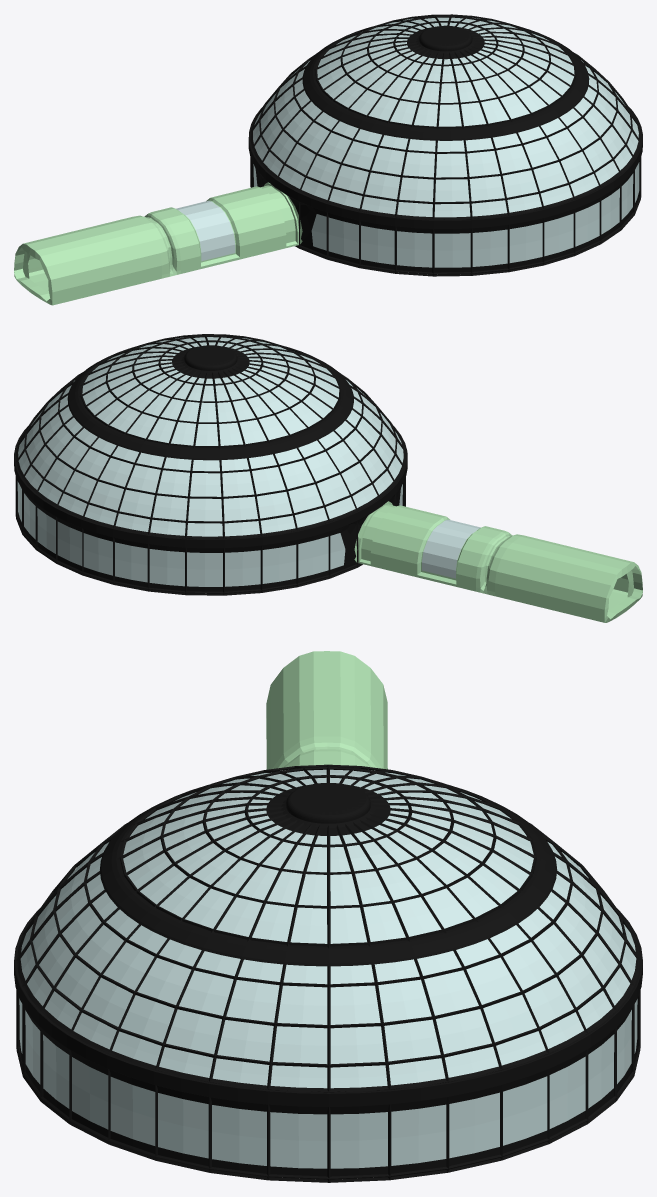
File: Hinvernadero.fbx
3 renders of one model, top to bottom at view 1: azimuth 30°, elevation 25°; view 2: azimuth 150°, elevation 25°; view 3: azimuth 270°, elevation 25°, orthographic. The views are drawn at different scales.
Parts seen in each view (by area): view 1: VidrioTensor.001, VidrioTensor.007; view 2: VidrioTensor.001, VidrioTensor.007; view 3: VidrioTensor.001, VidrioTensor.007.
Boxes of the visible parts, <box> form: VidrioTensor.001: <box>176,17,639,267</box>; VidrioTensor.007: <box>14,14,642,305</box>; VidrioTensor.001: <box>17,337,480,586</box>; VidrioTensor.007: <box>14,334,642,622</box>; VidrioTensor.001: <box>19,769,637,1168</box>; VidrioTensor.007: <box>14,651,642,1182</box>.
Size of the model in its own units: 5664 by 1458 by 3291.
